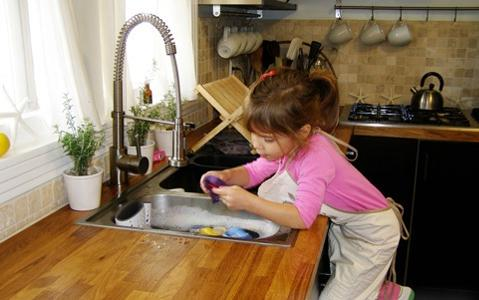person: (200, 70, 414, 300)
